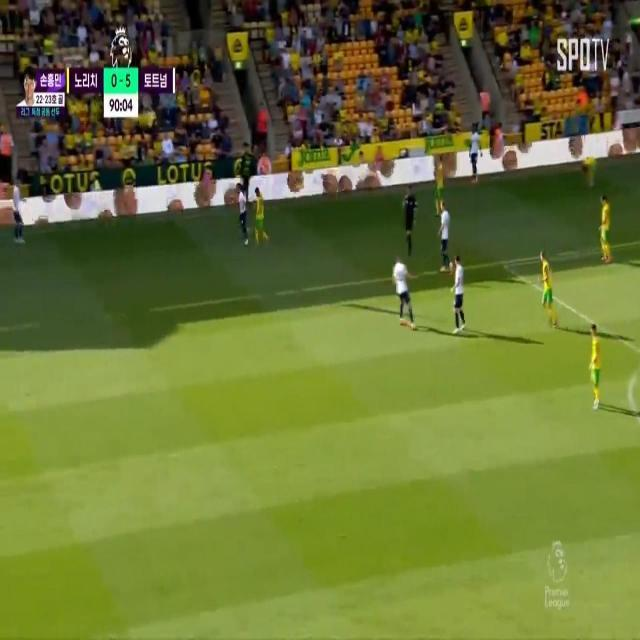player: (534, 251, 552, 324), (391, 251, 406, 323), (597, 197, 613, 264), (252, 186, 268, 248), (592, 323, 602, 412), (434, 156, 448, 210), (440, 203, 450, 266), (455, 256, 463, 331), (238, 179, 247, 244), (472, 122, 480, 177)
referee: (399, 184, 417, 254)
